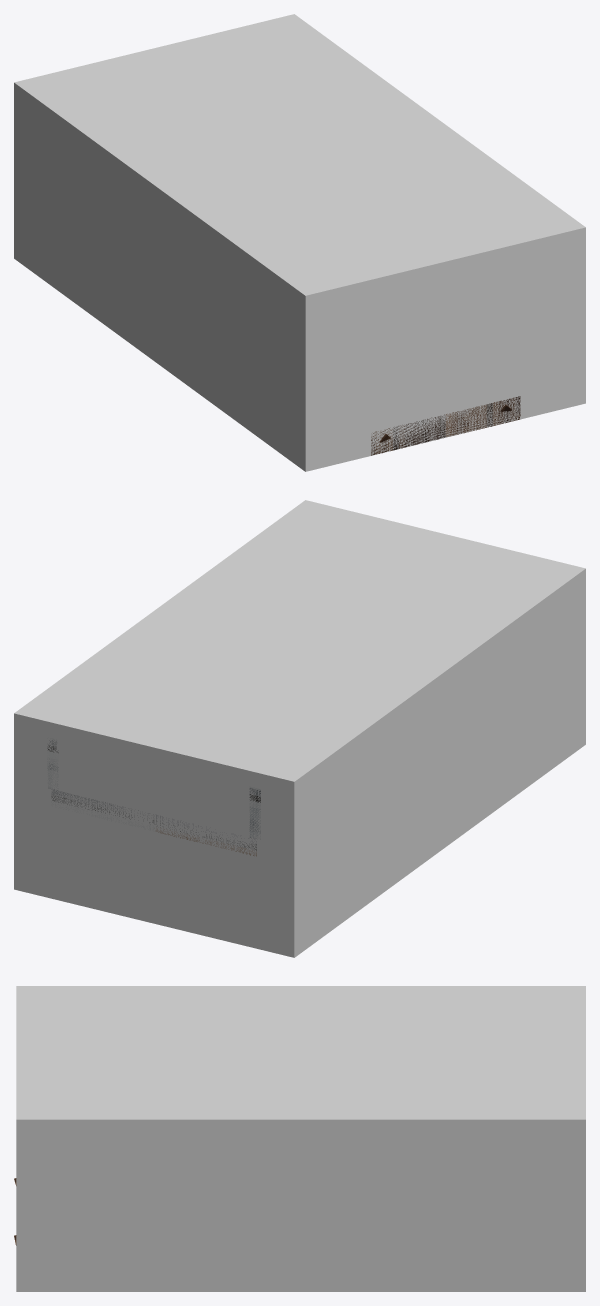
File: JP_Prop_Handcart_A.glb
3 views of the same model, one above another, from view 1: azimuth 30°, elevation 25°; view 2: azimuth 150°, elevation 25°; view 3: azimuth 270°, elevation 25° (orthographic). The views are drawn at different scales.
Parts seen in each view (by area): view 1: COL_JP_Prop_Handcart_A, JP_Prop_Handcart_A; view 2: COL_JP_Prop_Handcart_A, JP_Prop_Handcart_A; view 3: COL_JP_Prop_Handcart_A.
Part boxes in pixels (bbox=[...]): COL_JP_Prop_Handcart_A: bbox=[14, 14, 585, 471]; JP_Prop_Handcart_A: bbox=[371, 396, 520, 455]; COL_JP_Prop_Handcart_A: bbox=[14, 500, 585, 957]; JP_Prop_Handcart_A: bbox=[47, 738, 260, 856]; COL_JP_Prop_Handcart_A: bbox=[16, 986, 585, 1291].
Bounding box in the file's own units: 1.5 × 0.9 × 2.71.
2 materials, 2 textured.
